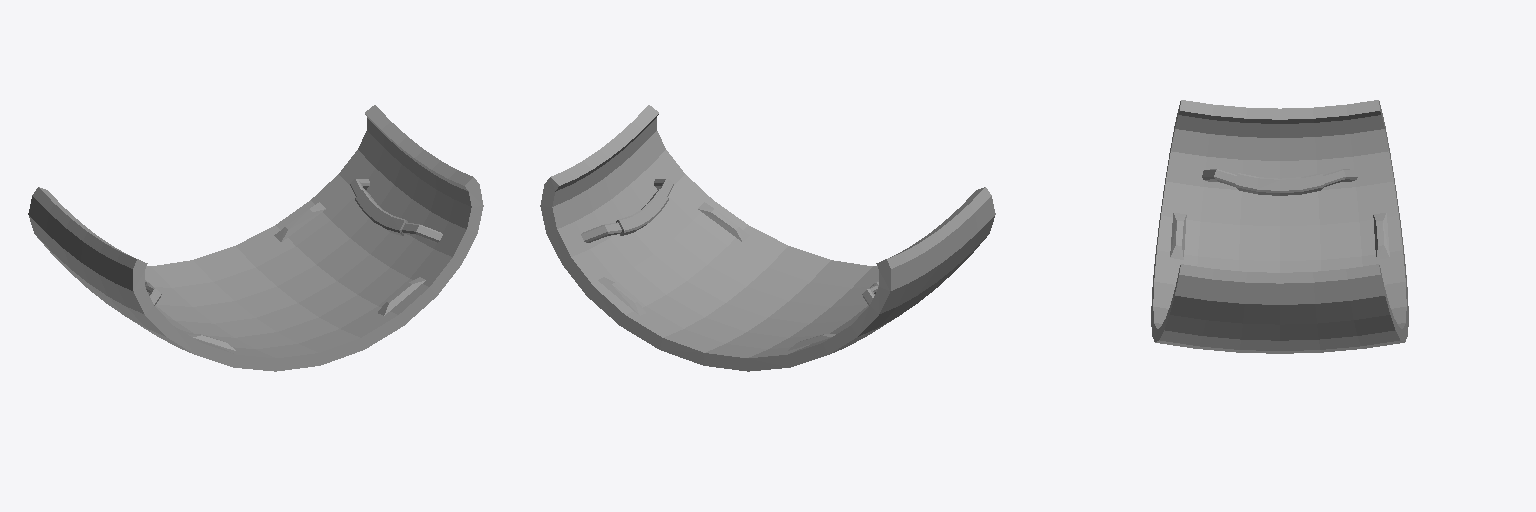
Rendered from PortalProps01.obj.
3 views of the same model, side by side, from view 1: azimuth 30°, elevation 25°; view 2: azimuth 150°, elevation 25°; view 3: azimuth 270°, elevation 25° (orthographic).
Parts seen in each view (by area): view 1: PortalProps01_PortalProps01_low_Torus.007; view 2: PortalProps01_PortalProps01_low_Torus.007; view 3: PortalProps01_PortalProps01_low_Torus.007.
Boxes of the visible parts, x1=… form: PortalProps01_PortalProps01_low_Torus.007: x1=28, y1=105, x2=483, y2=371; PortalProps01_PortalProps01_low_Torus.007: x1=540, y1=105, x2=995, y2=371; PortalProps01_PortalProps01_low_Torus.007: x1=1151, y1=100, x2=1408, y2=353.
Size of the model in its own units: 0.9035 by 0.3655 by 0.5764.